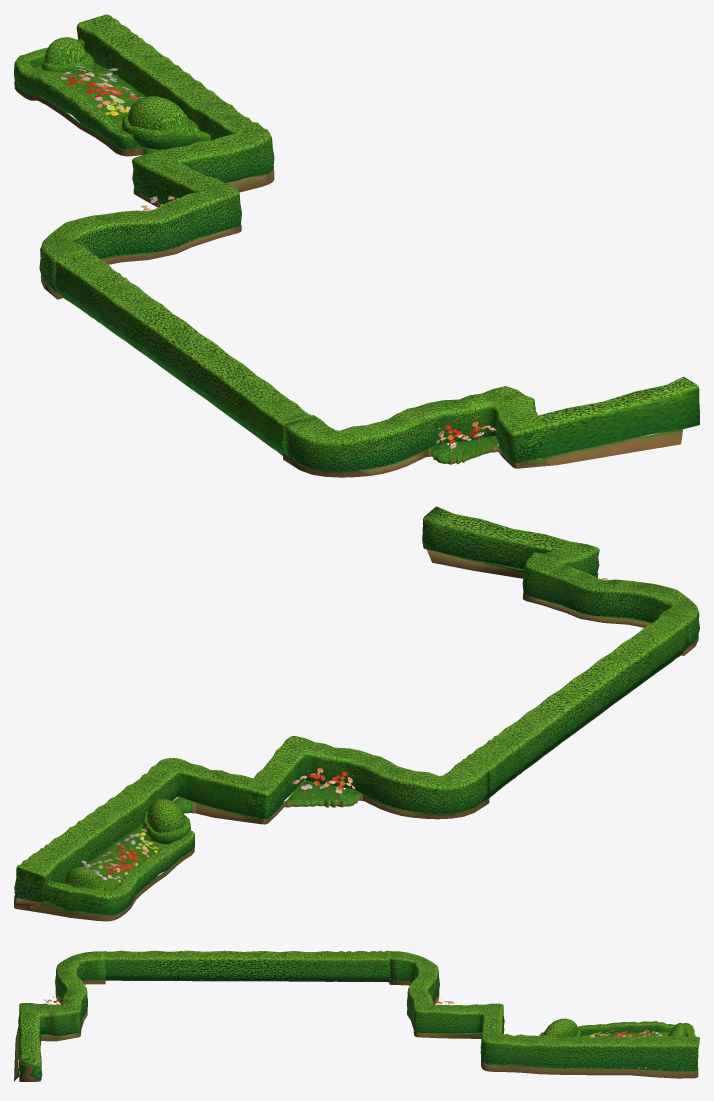
File: castleHedges.glb
The picture shows the model from 3 angles, top to bottom: view 1: azimuth 30°, elevation 25°; view 2: azimuth 150°, elevation 25°; view 3: azimuth 270°, elevation 25°; orthographic projection. The views are drawn at different scales.
Visible parts, largest first — view 1: hedge1, hedge3, hedge2; view 2: hedge1, hedge3, hedge2; view 3: hedge1, hedge2, hedge3.
Boxes of the visible parts, x1,y1,x2,y2 form: hedge1: [14, 14, 274, 299]; hedge3: [281, 377, 699, 477]; hedge2: [54, 250, 311, 455]; hedge1: [14, 736, 489, 921]; hedge3: [422, 506, 699, 655]; hedge2: [462, 615, 686, 797]; hedge1: [389, 951, 699, 1078]; hedge2: [104, 950, 390, 982]; hedge3: [14, 951, 105, 1081].
Size of the model in its own units: 36.17 by 5.87 by 96.1.
1 material, 1 textured.
